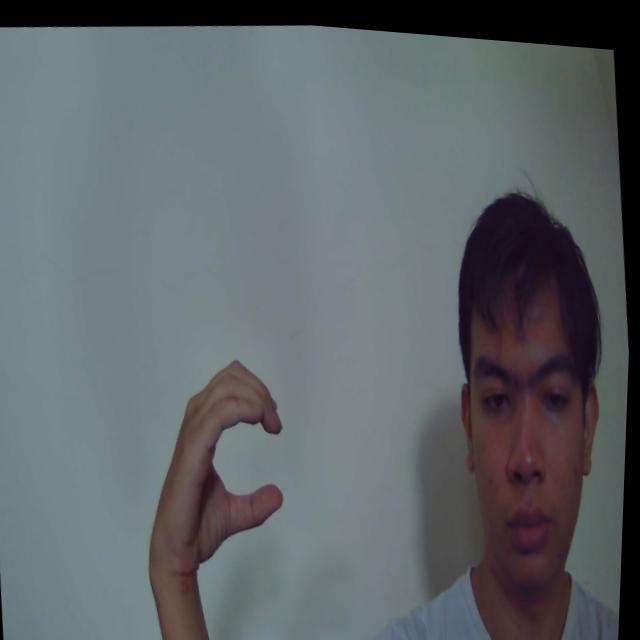C: (133, 343, 301, 582)
